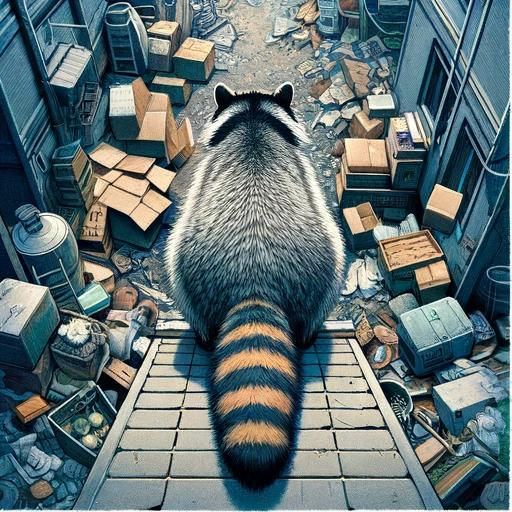raccoon: (154, 75, 362, 503)
